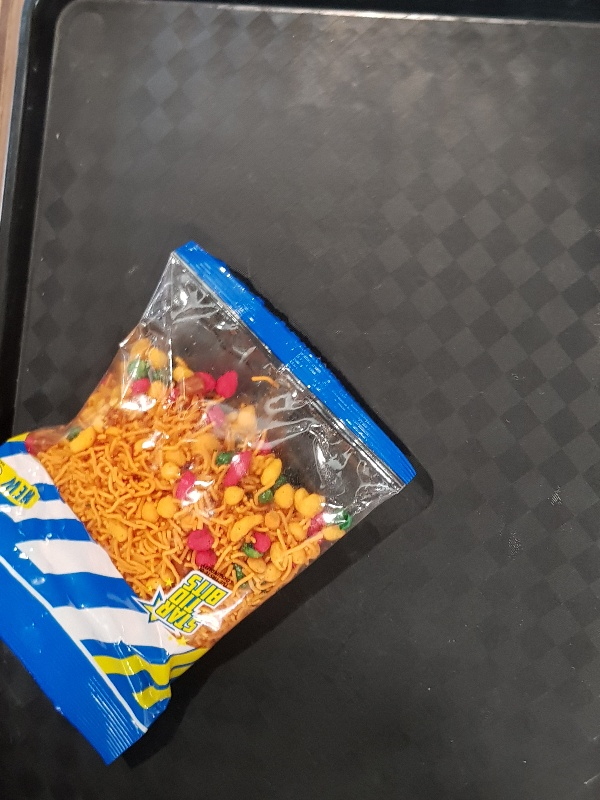Star Tidbits Mixer: (1, 237, 418, 767)
